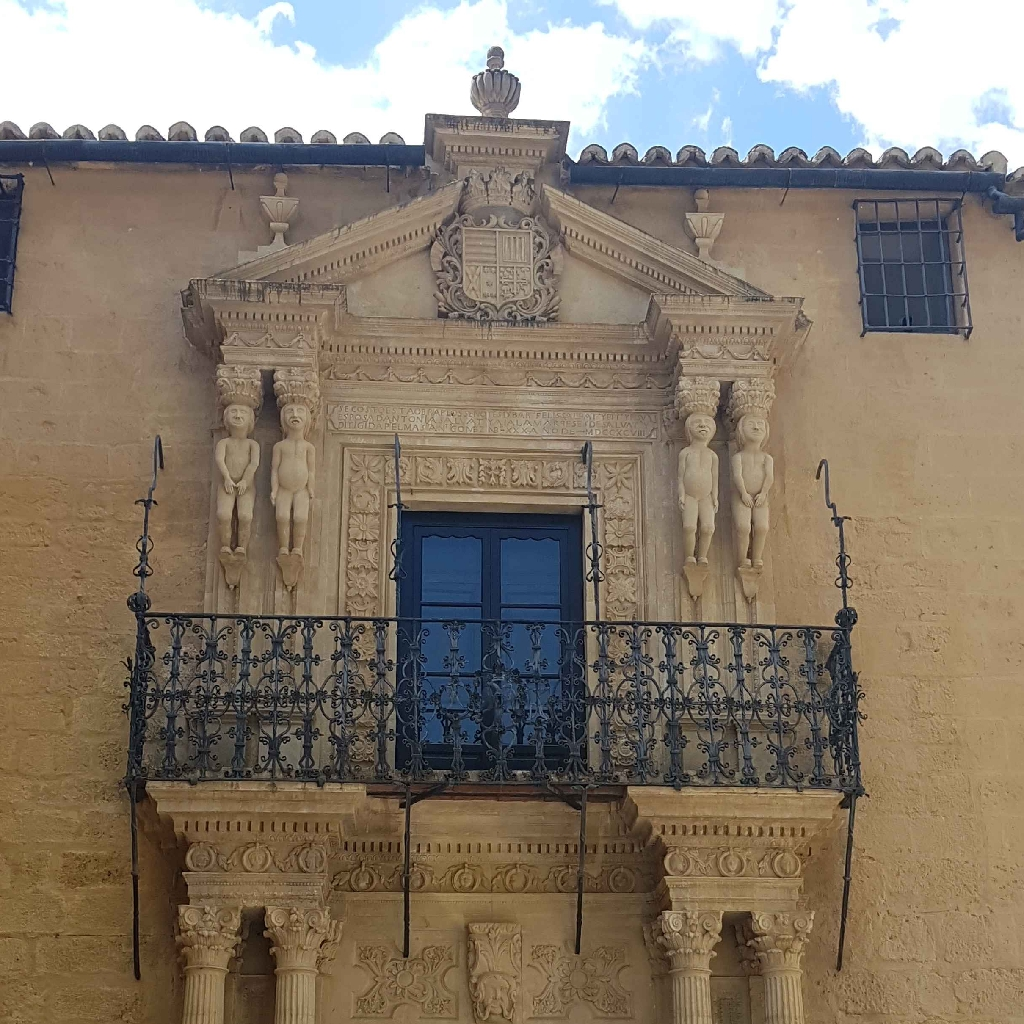fronton-partido: (177, 176, 813, 352)
vano-adintelado: (350, 461, 621, 780)
